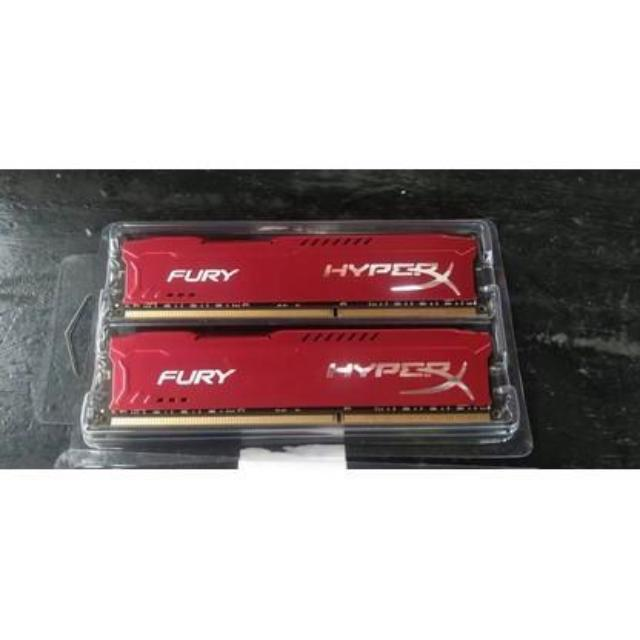RAM: (96, 333, 504, 430), (104, 234, 493, 326)
